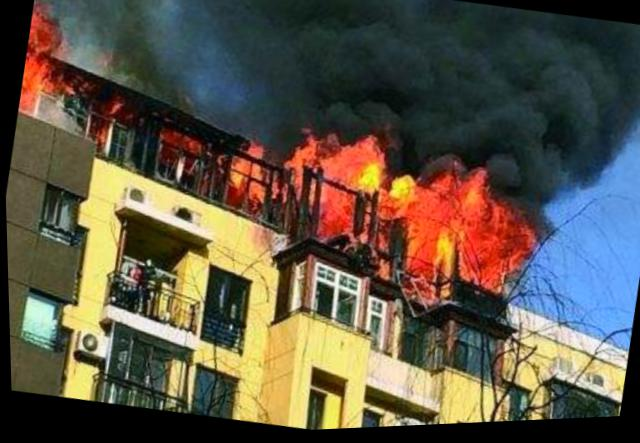fire: (204, 105, 546, 334), (15, 4, 78, 117)
